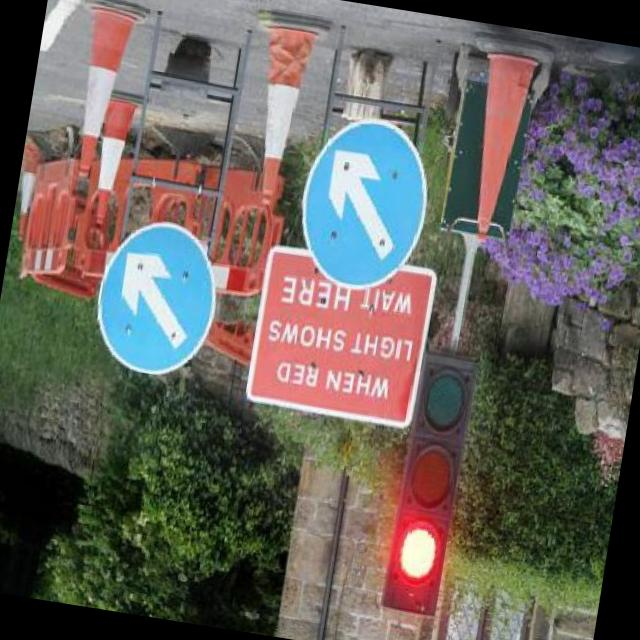red-lights: (388, 510, 446, 592)
